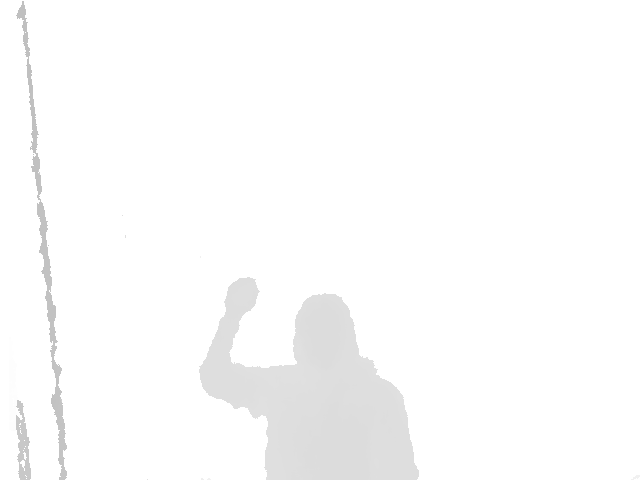hand: (224, 276, 261, 319)
head: (293, 292, 359, 370)
person: (198, 276, 420, 480)
